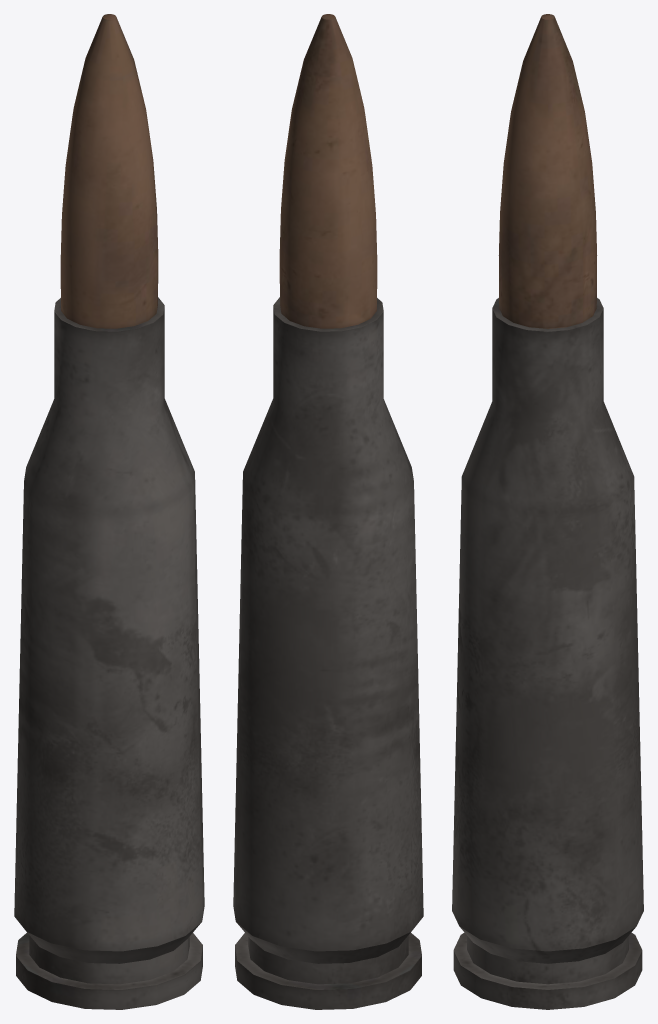
The picture shows the model from 3 angles, left to right: view 1: azimuth 30°, elevation 25°; view 2: azimuth 150°, elevation 25°; view 3: azimuth 270°, elevation 25°; orthographic projection.
Parts seen in each view (by area): view 1: 5.45; view 2: 5.45; view 3: 5.45.
Boxes of the visible parts, left/top/right/bottom form: 5.45: left=14, top=14, right=204, bottom=1009; 5.45: left=233, top=14, right=423, bottom=1009; 5.45: left=452, top=14, right=643, bottom=1009.
Bounding box in the file's own units: 0.1939 × 1.06 × 0.1939.
Materials: 1 (1 with a texture image).
